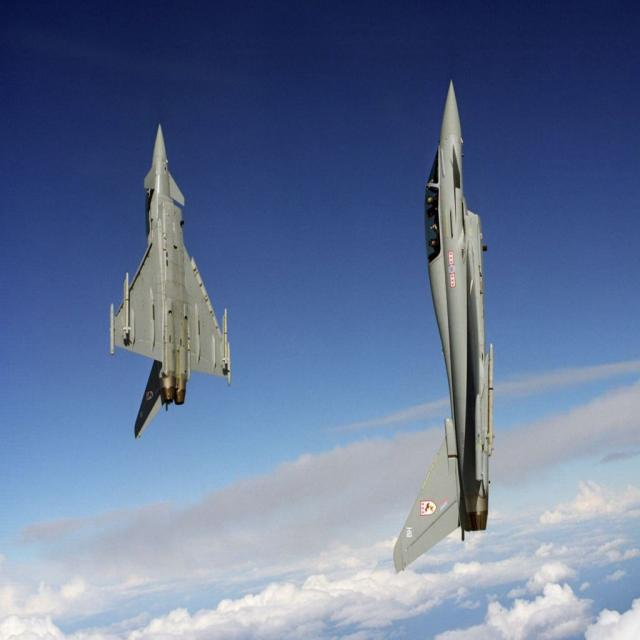MIL_Plane: (392, 80, 496, 575), (110, 122, 230, 440)
